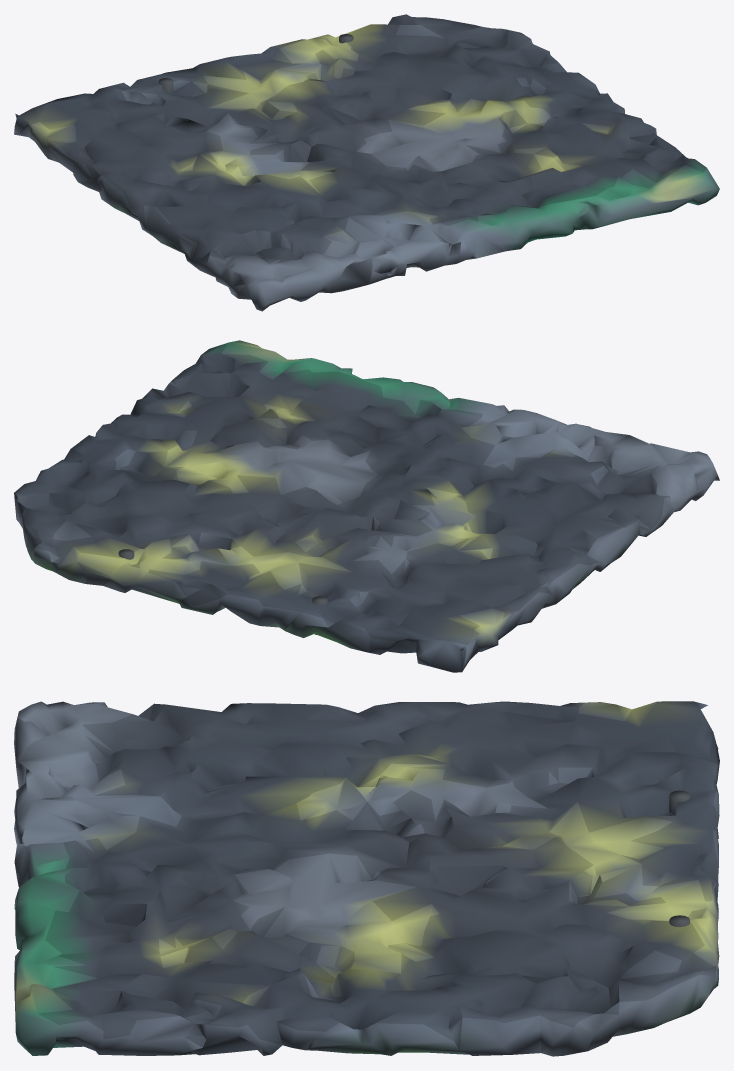
File: grotto_slate.glb
The picture shows the model from 3 angles, top to bottom: view 1: azimuth 30°, elevation 25°; view 2: azimuth 150°, elevation 25°; view 3: azimuth 270°, elevation 25°; orthographic projection. The views are drawn at different scales.
Visible parts, largest first — view 1: grotto_slate; view 2: grotto_slate; view 3: grotto_slate.
Part boxes in pixels (box(x1,y1,x2,y2)): grotto_slate: box(14, 14, 719, 311); grotto_slate: box(14, 340, 719, 672); grotto_slate: box(14, 701, 719, 1056).
Bounding box in the file's own units: 26.01 × 1.77 × 23.91.
